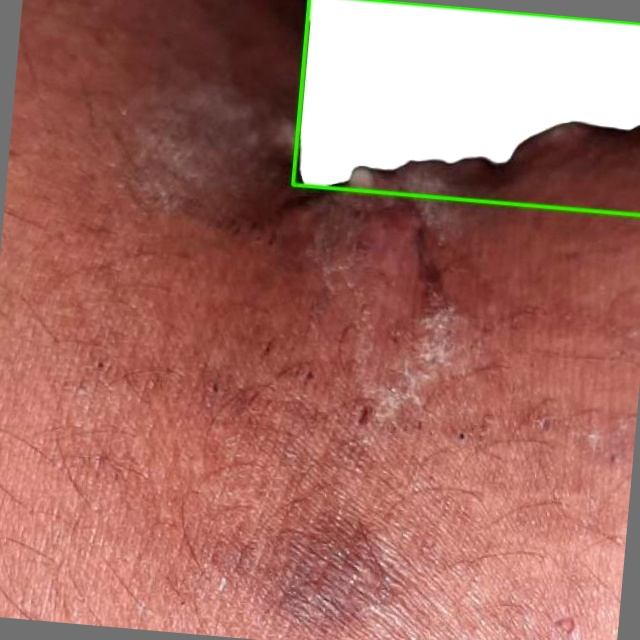Contact Dermatitis: (292, 0, 639, 215)
